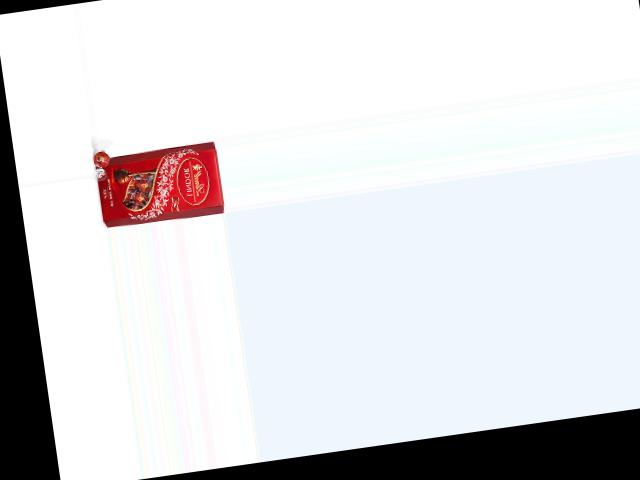chocolate: (93, 134, 224, 228)
